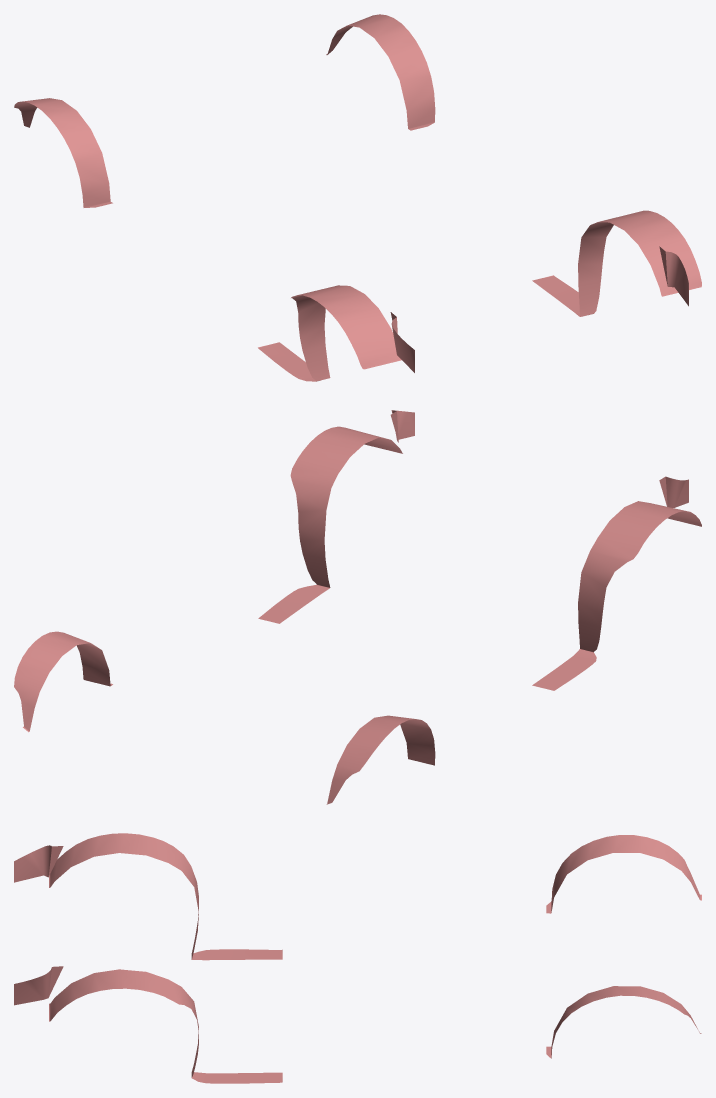
The model's file is RX7_Fender02_Trim.fbx.
The picture shows the model from 3 angles, top to bottom: view 1: azimuth 30°, elevation 25°; view 2: azimuth 150°, elevation 25°; view 3: azimuth 270°, elevation 25°; orthographic projection. The views are drawn at different scales.
Visible parts, largest first — view 1: RX7_Fender02_Trim; view 2: RX7_Fender02_Trim; view 3: RX7_Fender02_Trim.
Part boxes in pixels (left/top/right/bottom): RX7_Fender02_Trim: left=14, top=14, right=701, bottom=381; RX7_Fender02_Trim: left=14, top=410, right=701, bottom=804; RX7_Fender02_Trim: left=14, top=833, right=701, bottom=1083.
Bounding box in the file's own units: 182 × 58.58 × 330.
